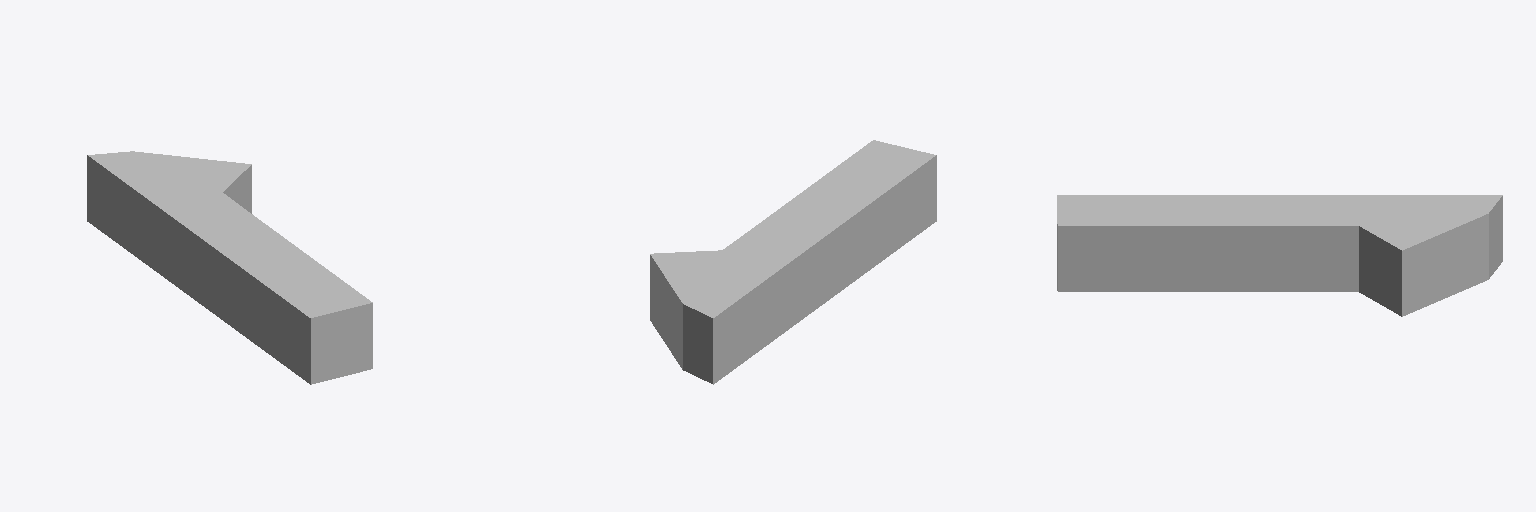
The model's file is Left Lane Guide.obj.
3 views of the same model, side by side, from view 1: azimuth 30°, elevation 25°; view 2: azimuth 150°, elevation 25°; view 3: azimuth 270°, elevation 25° (orthographic).
Visible parts, largest first — view 1: Cube; view 2: Cube; view 3: Cube.
Boxes of the visible parts, <box> form: Cube: <box>87,151,372,384</box>; Cube: <box>650,140,936,384</box>; Cube: <box>1057,195,1502,316</box>.
Bounding box in the file's own units: 0.9 × 0.5009 × 3.05.